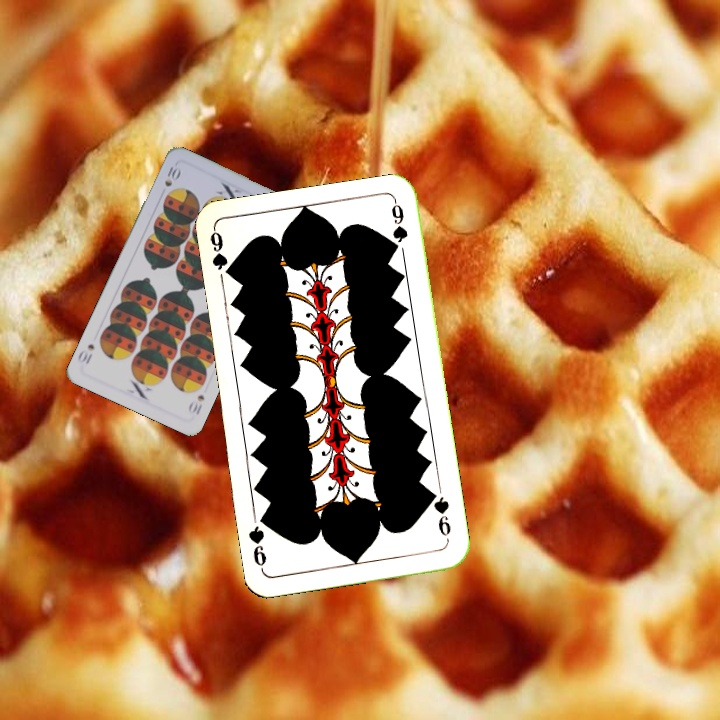G9: (426, 486, 454, 544), (206, 226, 233, 279)
S10: (184, 391, 207, 418), (160, 162, 182, 190)
